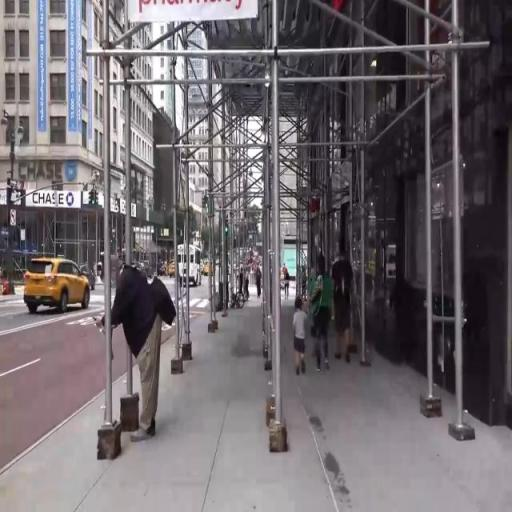person: (102, 246, 172, 450), (309, 259, 332, 376), (333, 245, 354, 373), (288, 298, 312, 385), (246, 264, 251, 305), (285, 269, 291, 303), (257, 270, 263, 303), (239, 264, 244, 299), (283, 260, 288, 274)
